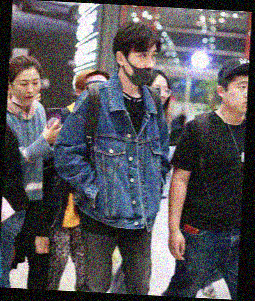mask_weared_incorrect: (125, 47, 159, 87), (12, 74, 41, 106)
without_mask: (226, 79, 247, 113), (150, 75, 169, 105)
